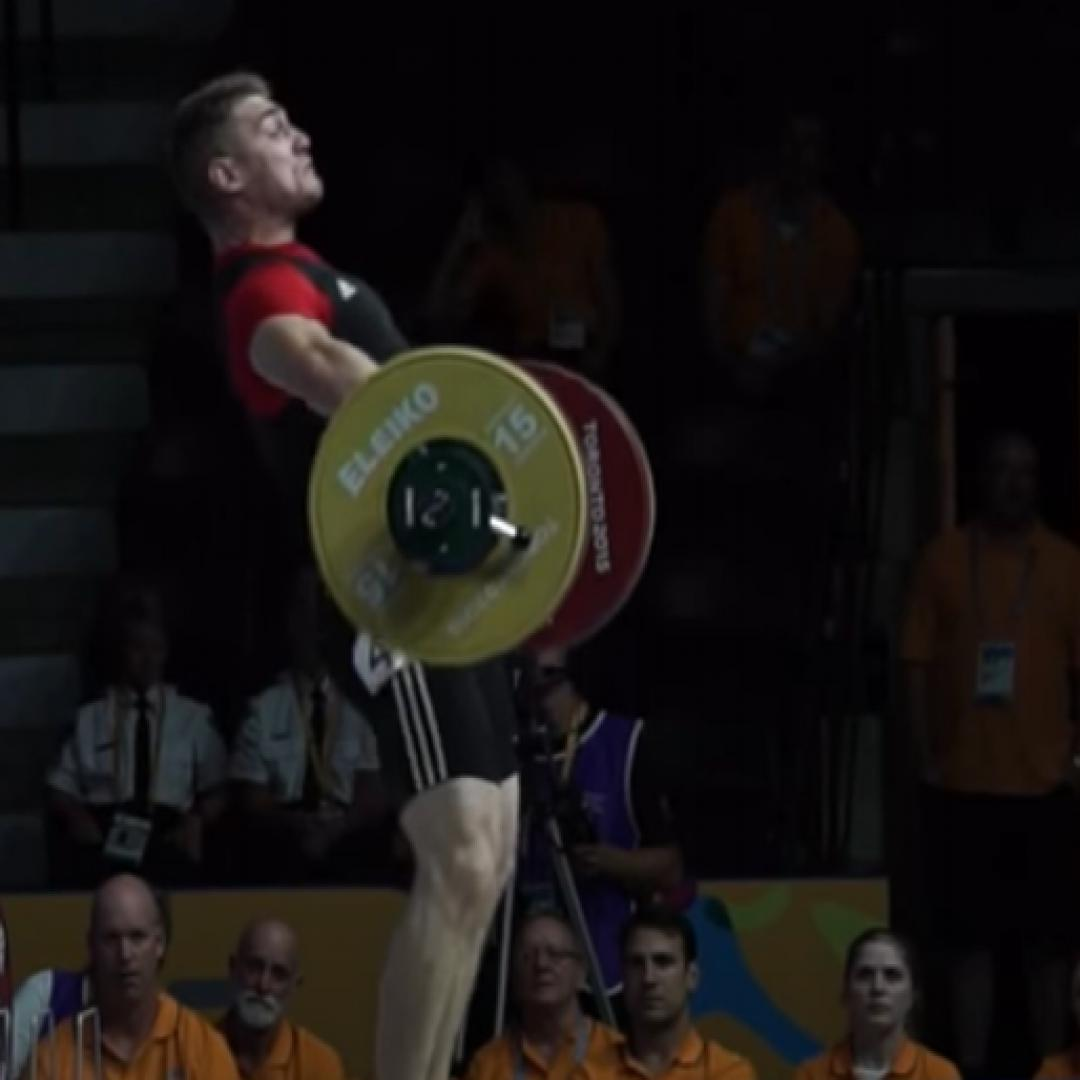Bar: (416, 483, 458, 534)
Barbell: (311, 353, 580, 662)
